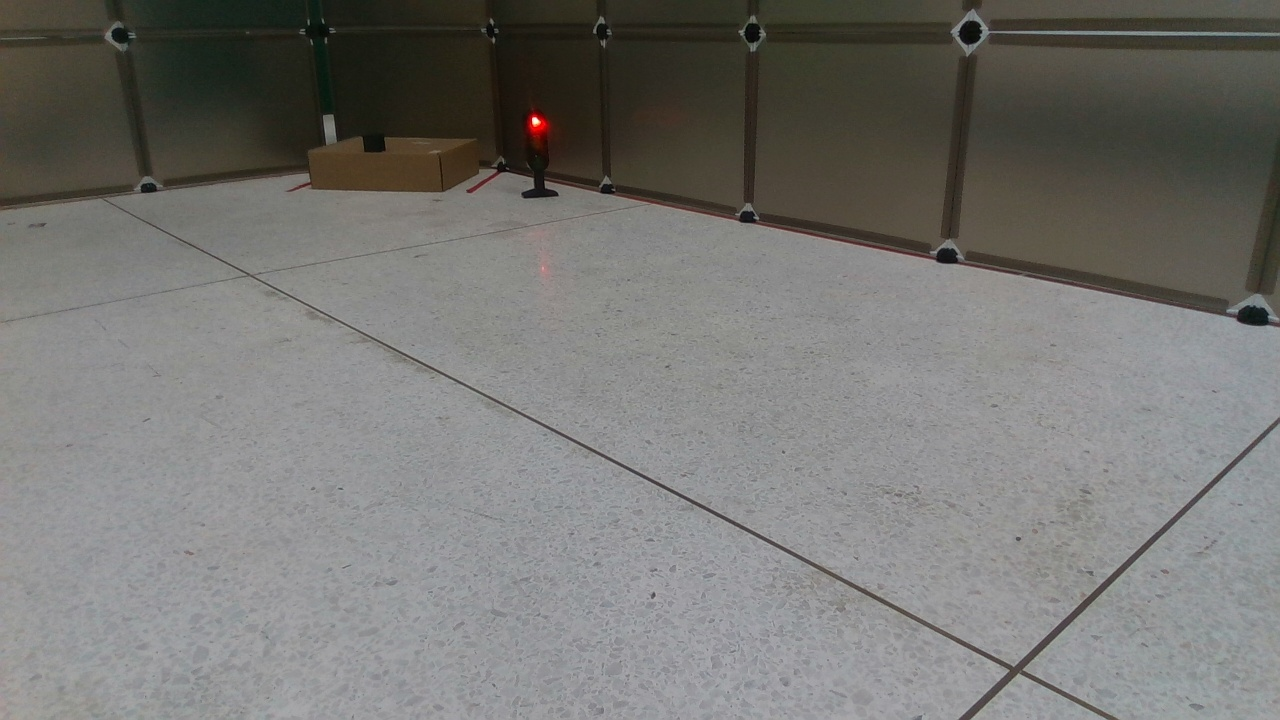Red traffic light: (517, 111, 565, 202)
